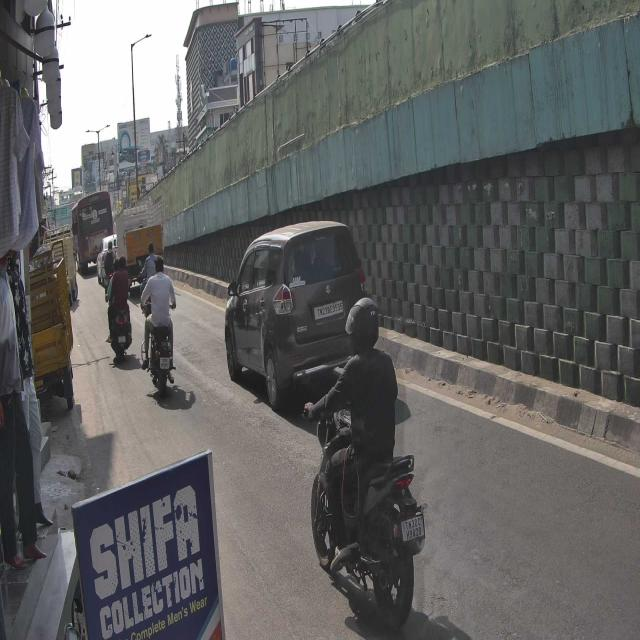single_rider: (301, 294, 428, 633)
